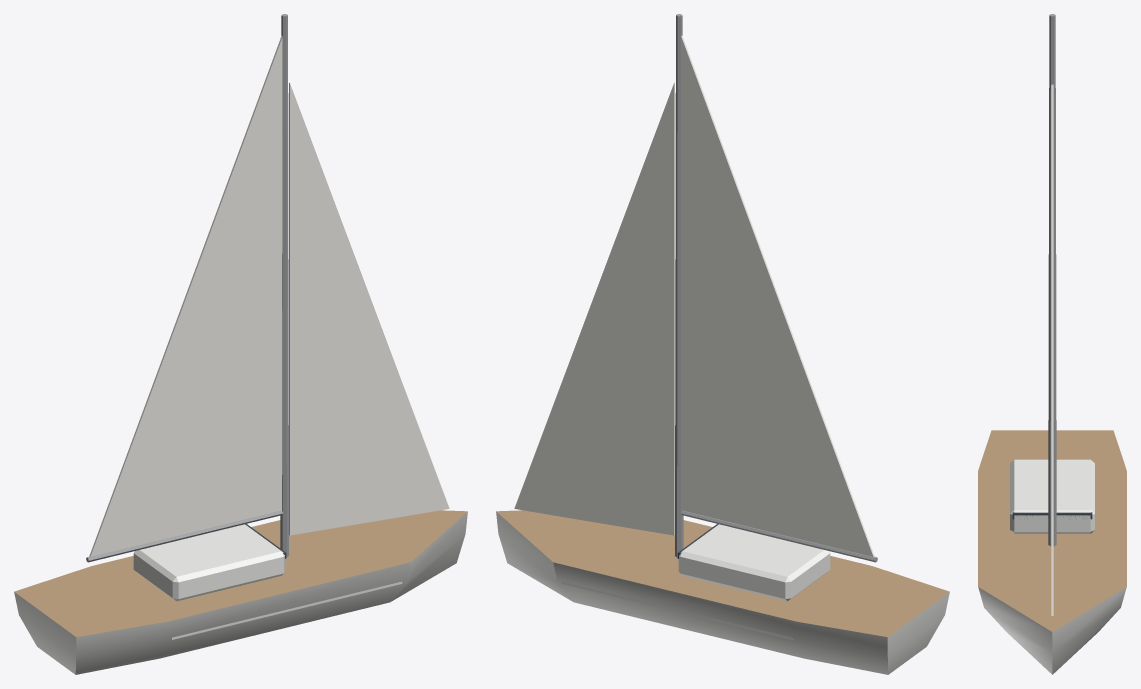
File: sailboat.glb
3 renders of one model, left to right at view 1: azimuth 30°, elevation 25°; view 2: azimuth 150°, elevation 25°; view 3: azimuth 270°, elevation 25°, orthographic. The views are drawn at different scales.
Parts seen in each view (by area): view 1: sailboat; view 2: sailboat; view 3: sailboat.
Boxes of the visible parts, left/top/right/bottom form: sailboat: left=14, top=14, right=467, bottom=674; sailboat: left=496, top=14, right=949, bottom=674; sailboat: left=978, top=14, right=1126, bottom=674.
Size of the model in its own units: 9 by 12 by 2.8.
